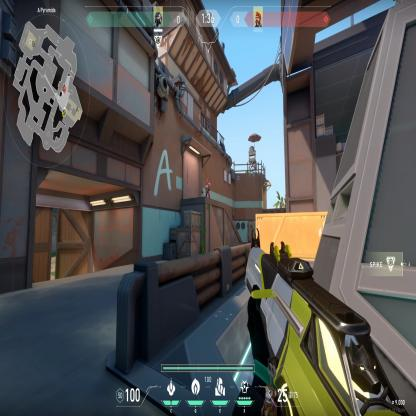enemy: (204, 178, 211, 200)
